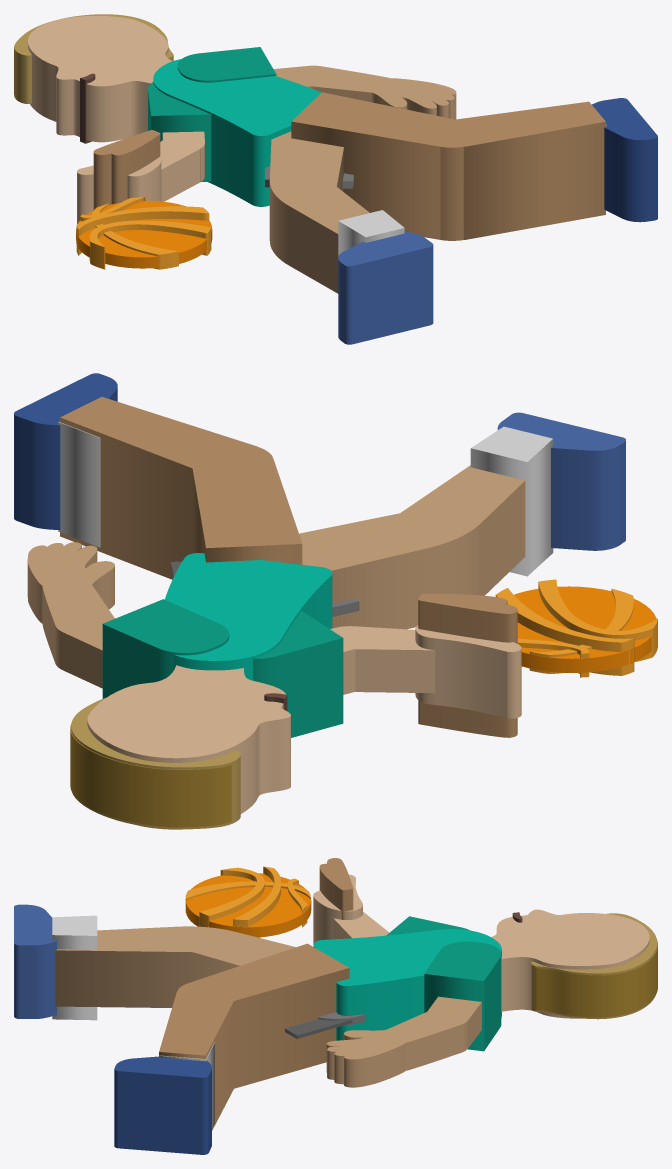
Rendered from emoji_u26f9_1f3fc_200d_2642.glb.
The picture shows the model from 3 angles, top to bottom: view 1: azimuth 30°, elevation 25°; view 2: azimuth 150°, elevation 25°; view 3: azimuth 270°, elevation 25°; orthographic projection. The views are drawn at different scales.
Visible parts, largest first — view 1: emoji_u26f9_1f3fc_200d_2642; view 2: emoji_u26f9_1f3fc_200d_2642; view 3: emoji_u26f9_1f3fc_200d_2642.
Part boxes in pixels (x1,y1,x2,y2): emoji_u26f9_1f3fc_200d_2642: (14,14,657,344); emoji_u26f9_1f3fc_200d_2642: (14,373,657,829); emoji_u26f9_1f3fc_200d_2642: (14,858,657,1154).
Size of the model in its own units: 0.0291 by 0.0052 by 0.0332.
